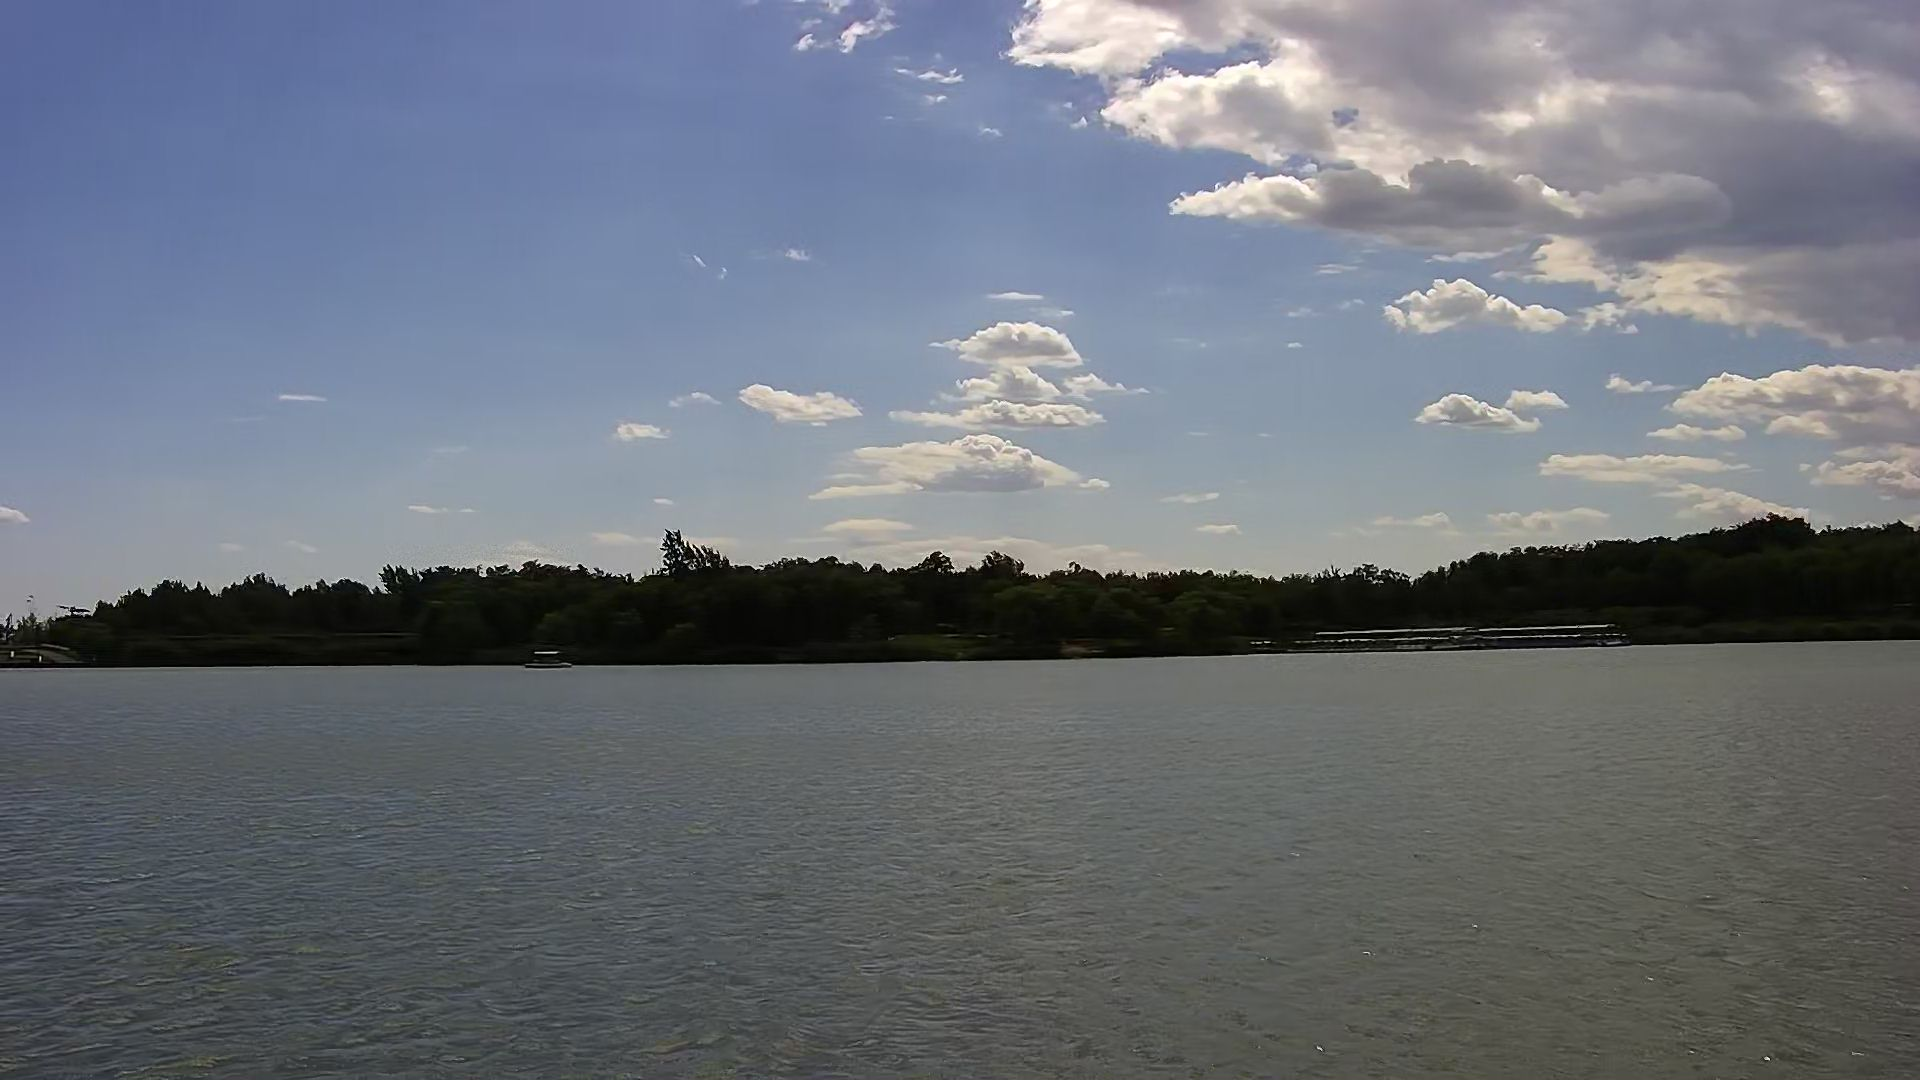boat: (524, 642, 576, 673)
harbor: (1278, 622, 1639, 651)
